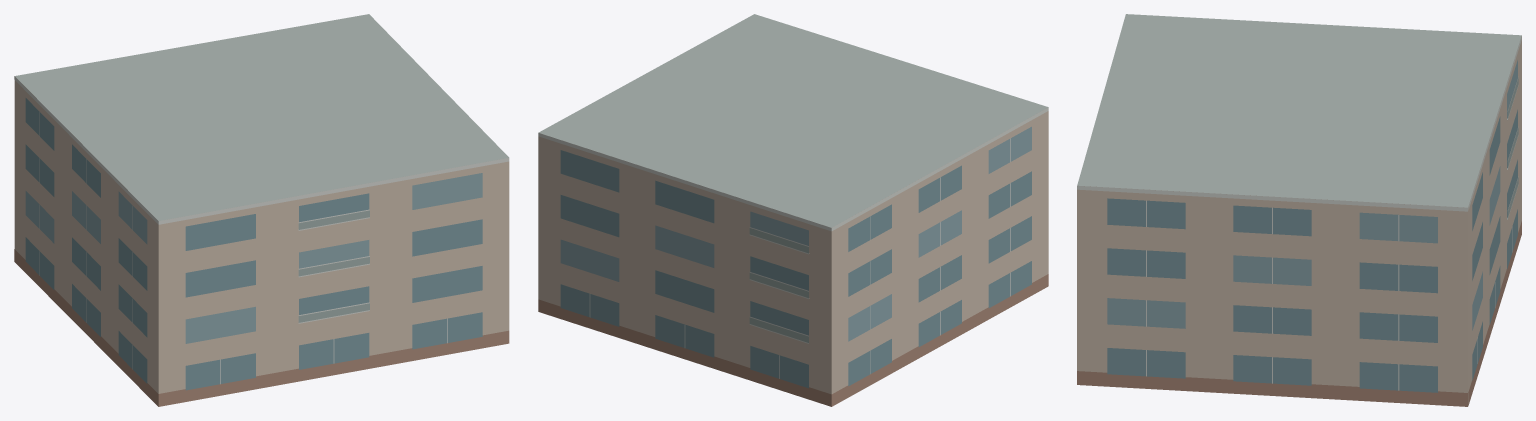
The model's file is residential-976a5f79-e23c-46c7-9977-dbaf3c67cbd3.glb.
3 renders of one model, left to right at view 1: azimuth 30°, elevation 25°; view 2: azimuth 150°, elevation 25°; view 3: azimuth 270°, elevation 25°, orthographic. The views are drawn at different scales.
Parts seen in each view (by area): view 1: residential-976a5f79-e23c-46c7-9977-dbaf3c67cbd3.tmp; view 2: residential-976a5f79-e23c-46c7-9977-dbaf3c67cbd3.tmp; view 3: residential-976a5f79-e23c-46c7-9977-dbaf3c67cbd3.tmp.
Part boxes in pixels (x1=…): residential-976a5f79-e23c-46c7-9977-dbaf3c67cbd3.tmp: x1=14, y1=14, x2=509, y2=406; residential-976a5f79-e23c-46c7-9977-dbaf3c67cbd3.tmp: x1=538, y1=14, x2=1048, y2=406; residential-976a5f79-e23c-46c7-9977-dbaf3c67cbd3.tmp: x1=1077, y1=14, x2=1521, y2=406.
Size of the model in its own units: 25.44 by 12.2 by 24.69.
